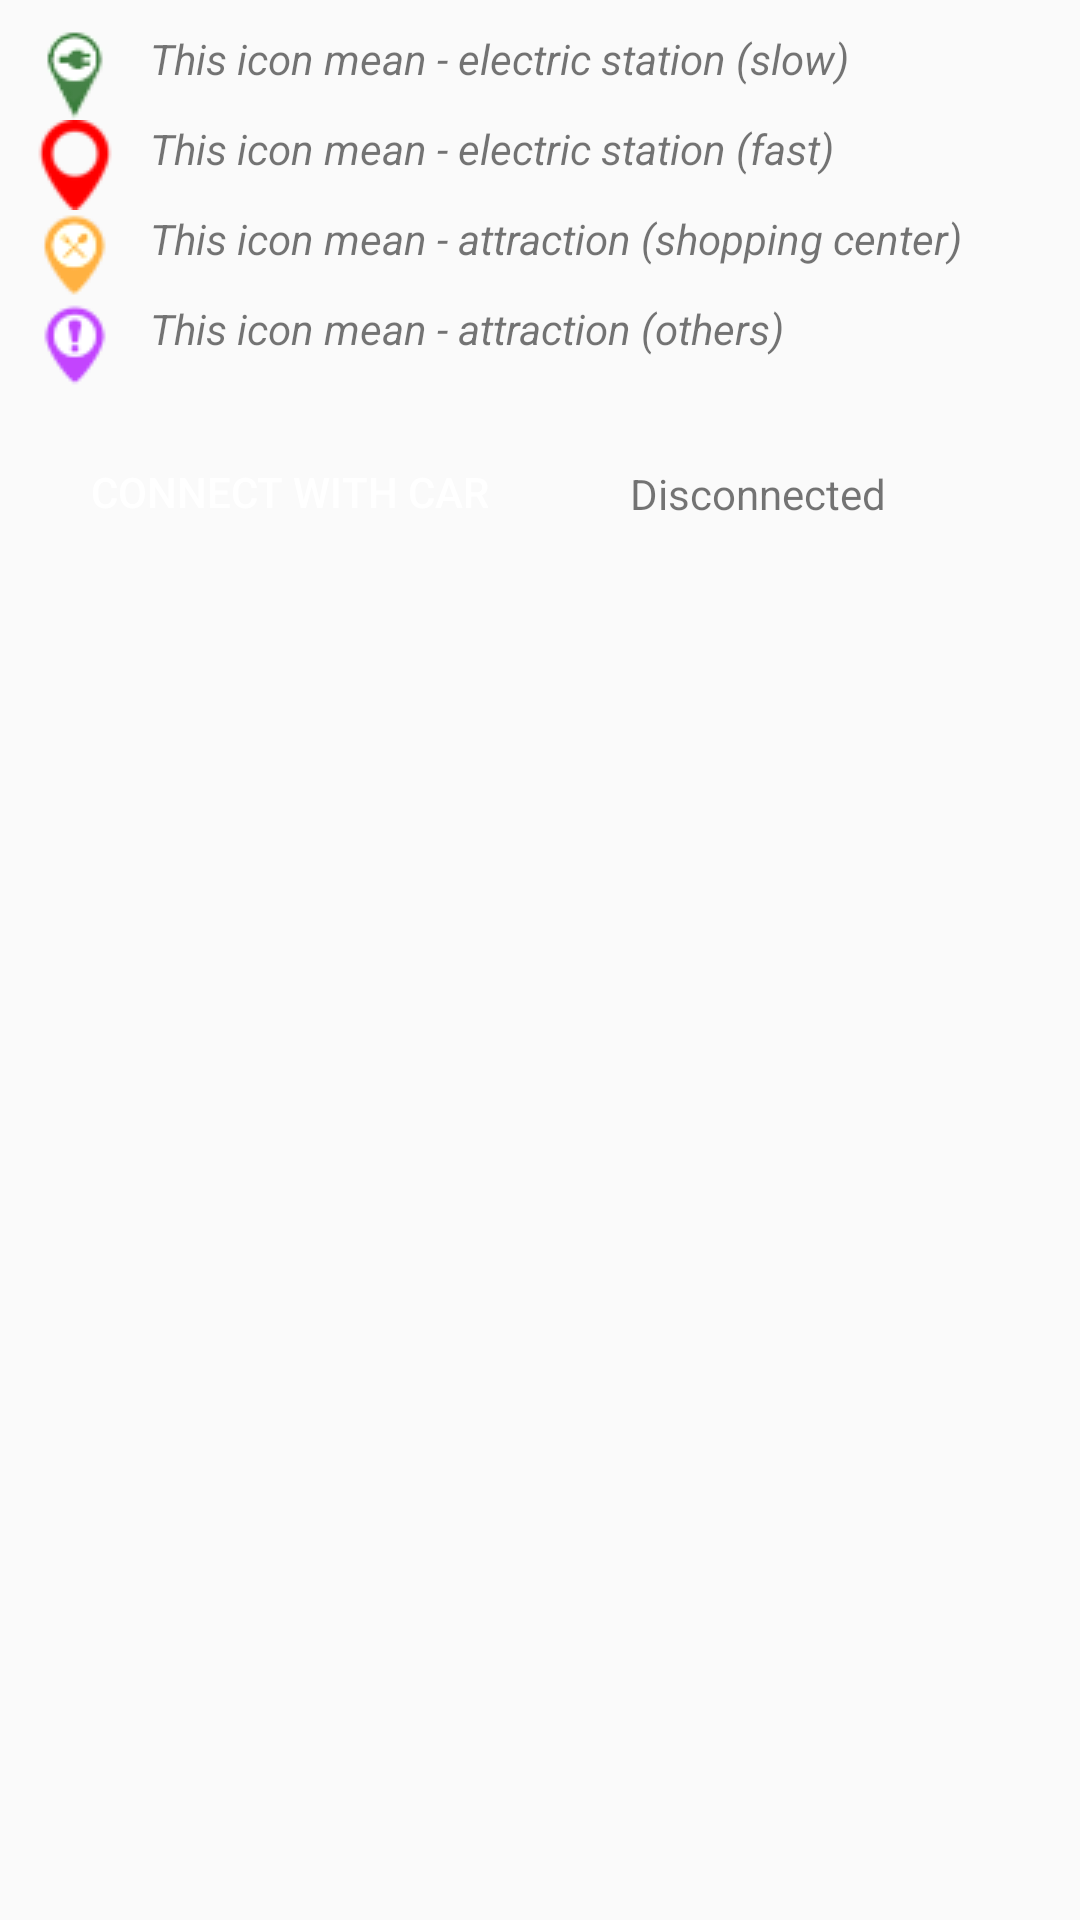

Icons on this 1080*1920 Android screen, each with its box as (x1, y1, x2, y2):
pin: (47, 32, 103, 117), (39, 120, 111, 210), (44, 215, 106, 295)
pin violet: (44, 306, 106, 383)
